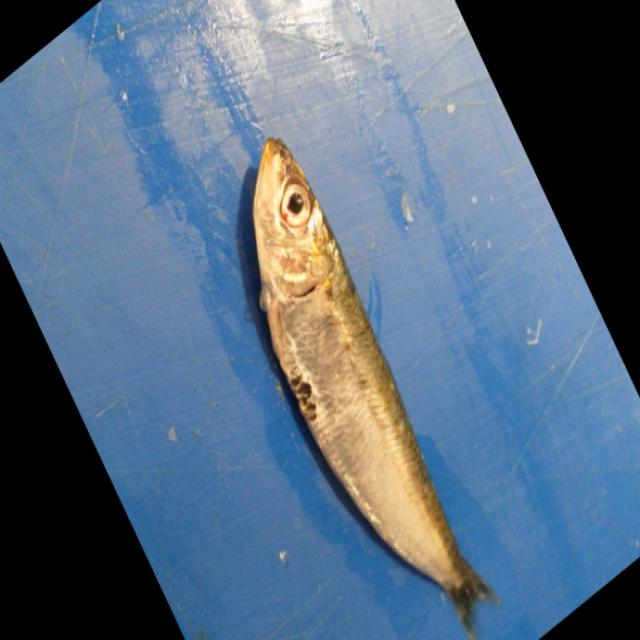Black-Sea-Sprat-tirsi-: (251, 140, 495, 628)
